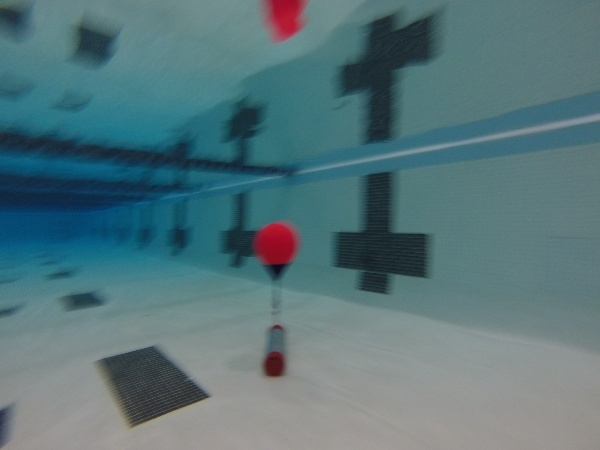buoy_red: (249, 220, 302, 283)
